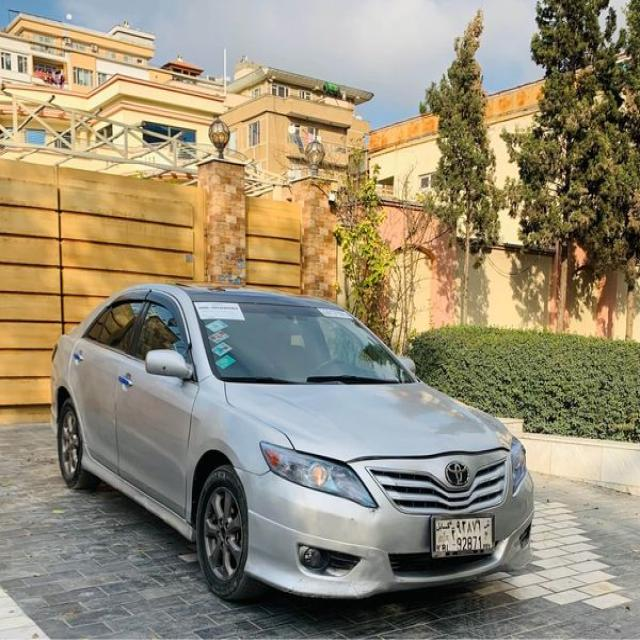Plate: (428, 513, 500, 558)
